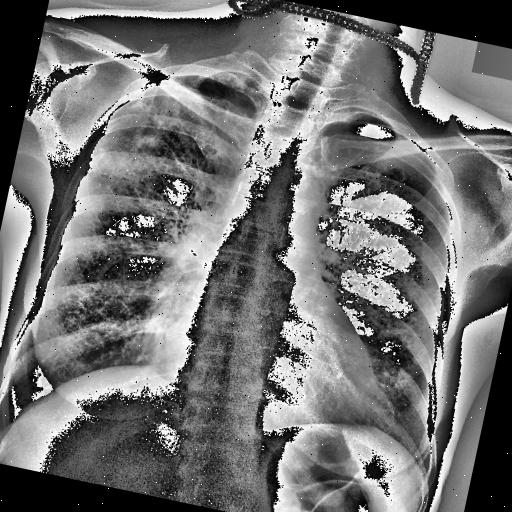13- Pulmonary fibrosis: (87, 75, 188, 182), (199, 71, 232, 100)
5- ILD: (20, 58, 260, 401), (32, 68, 225, 400), (301, 220, 460, 442), (338, 242, 464, 448), (49, 227, 160, 362), (385, 246, 453, 388)
6- Infiltration: (87, 75, 188, 182)
